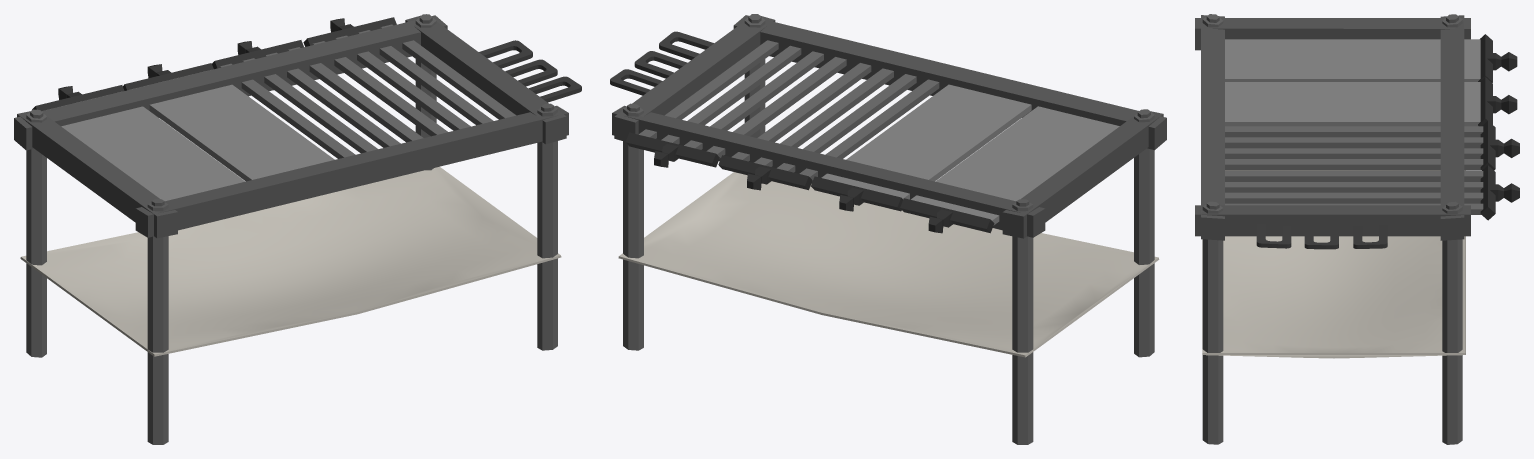
File: Stove thingie.fbx
3 renders of one model, left to right at view 1: azimuth 30°, elevation 25°; view 2: azimuth 150°, elevation 25°; view 3: azimuth 270°, elevation 25°, orthographic.
Visible parts, largest first — view 1: Plane.001, Cube.013, Cube.025, Cube.019, Cube.018; view 2: Plane.001, Cube.013, Cube.025, Cube.019, Cube.018; view 3: Plane.001, Cube.018, Cube.013, Cube.025, Cube.019.
Part boxes in pixels (x1,y1,x2,y2): Plane.001: [14, 14, 581, 444]; Cube.013: [123, 63, 334, 181]; Cube.025: [31, 85, 245, 201]; Cube.019: [303, 17, 516, 136]; Cube.018: [212, 40, 423, 158]; Plane.001: [610, 14, 1166, 444]; Cube.013: [811, 84, 1031, 211]; Cube.025: [900, 106, 1119, 233]; Cube.019: [625, 40, 846, 167]; Cube.018: [718, 63, 939, 190]; Plane.001: [1195, 14, 1470, 444]; Cube.018: [1225, 121, 1519, 170]; Cube.013: [1225, 77, 1517, 126]; Cube.025: [1225, 34, 1517, 82]; Cube.019: [1225, 165, 1519, 220].
Bounding box in the file's own units: 2.92 × 1.46 × 1.8.
